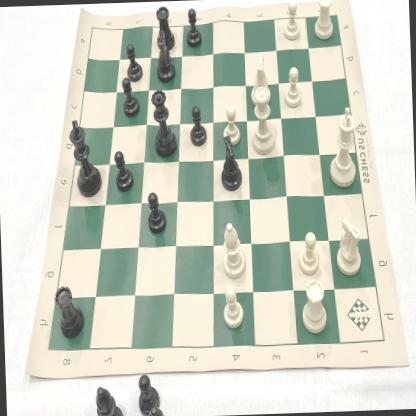black-king: (68, 115, 102, 200)
black-knight: (215, 134, 246, 193), (156, 29, 176, 84)
black-pawn: (112, 148, 136, 195), (146, 190, 167, 236), (120, 75, 141, 119), (187, 105, 208, 149), (184, 5, 204, 50), (126, 41, 146, 82)
black-queen: (149, 87, 179, 163)
black-rook: (54, 280, 86, 342), (154, 5, 176, 53)
white-bishop: (219, 220, 249, 281)
white-king: (325, 105, 361, 190)
white-knight: (332, 213, 369, 279), (248, 51, 272, 108)
white-pawn: (221, 282, 249, 334), (280, 65, 306, 110), (297, 229, 320, 277), (221, 100, 244, 146), (280, 1, 303, 43)
white-queen: (247, 86, 276, 158)
white-rook: (299, 277, 331, 336), (311, 0, 337, 42)
